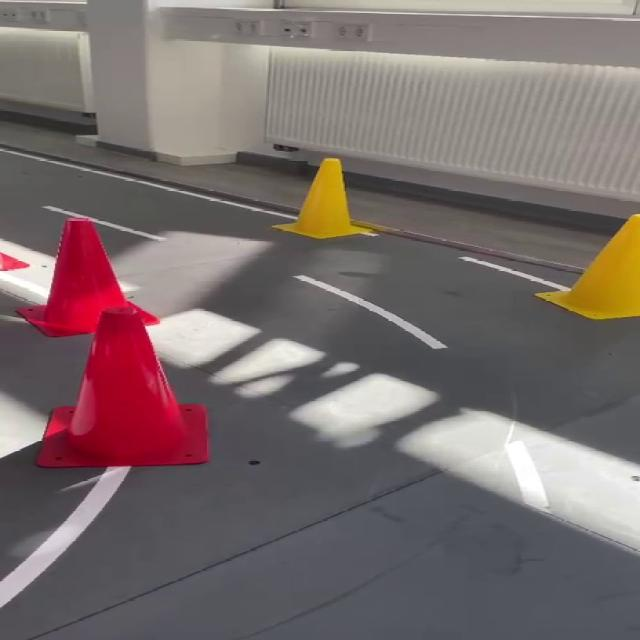Cone-red: (17, 219, 208, 467), (0, 252, 29, 271)
Cones-yellow: (537, 214, 639, 319), (273, 160, 379, 238)
